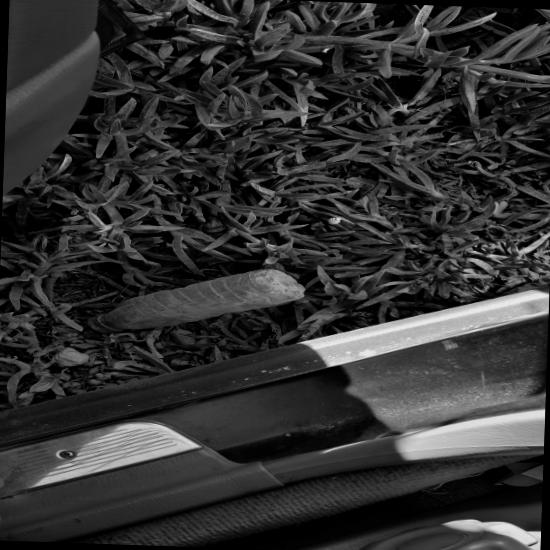Clear plastic bottle: (87, 269, 307, 334)
Normal paper: (494, 463, 543, 487)
Plastic bottle cap: (86, 317, 116, 334)
Rope - strings: (420, 473, 485, 504)
